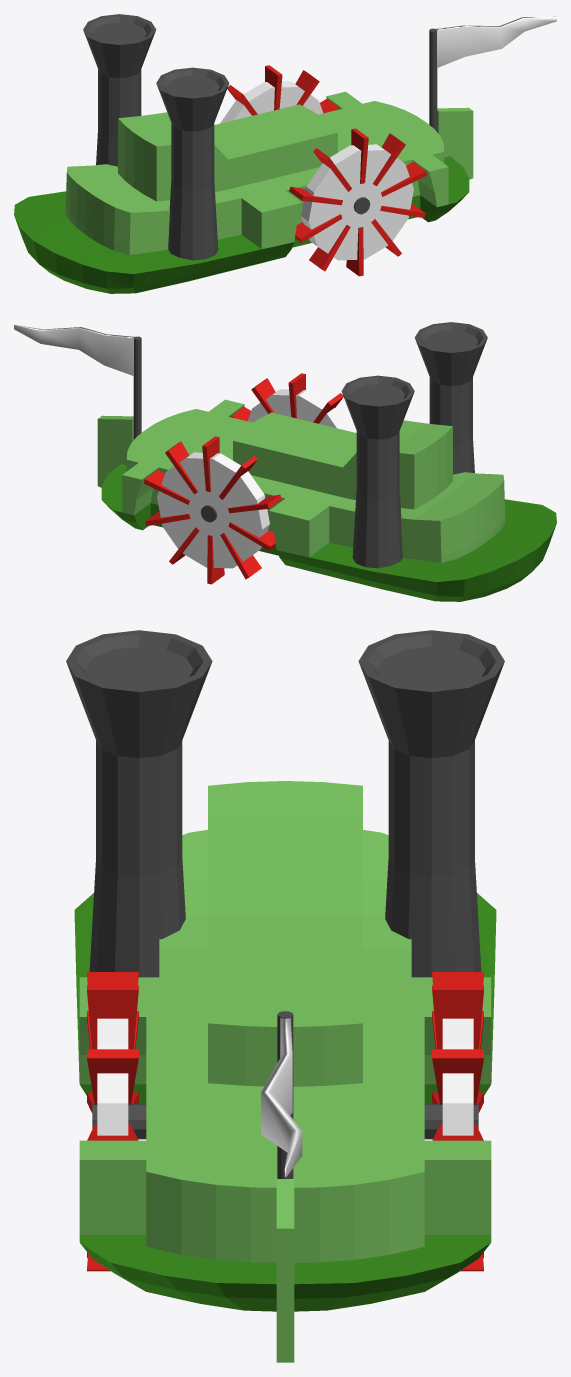
The model's file is Boat_1.FBX.
3 views of the same model, one above another, from view 1: azimuth 30°, elevation 25°; view 2: azimuth 150°, elevation 25°; view 3: azimuth 270°, elevation 25° (orthographic). The views are drawn at different scales.
Visible parts, largest first — view 1: B_1_Hull, B_1_left_Wheel, B_1_Left_Stack, B_1_right_Stack, B_1_right_Wheel, B_1_Flag, B_1_Rutter; view 2: B_1_Hull, B_1_right_Wheel, B_1_right_Stack, B_1_Left_Stack, B_1_left_Wheel, B_1_Flag, B_1_Rutter; view 3: B_1_Hull, B_1_Left_Stack, B_1_right_Stack, B_1_left_Wheel, B_1_right_Wheel, B_1_Rutter, B_1_Flag.
Boxes of the visible parts, x1,y1,x2,y2 form: B_1_Hull: (14,28,469,293); B_1_left_Wheel: (289,128,427,276); B_1_Left_Stack: (156,67,229,260); B_1_right_Stack: (83,14,156,166); B_1_right_Wheel: (220,65,339,123); B_1_Flag: (436,16,556,67); B_1_Rutter: (437,107,473,179); B_1_Hull: (101,336,556,601); B_1_right_Wheel: (143,436,281,584); B_1_right_Stack: (341,375,414,568); B_1_Left_Stack: (414,322,487,474); B_1_left_Wheel: (231,373,350,431); B_1_Flag: (14,325,134,375); B_1_Rutter: (97,415,133,487); B_1_Hull: (74,781,496,1311); B_1_Left_Stack: (66,630,212,977); B_1_right_Stack: (358,630,504,977); B_1_left_Wheel: (87,972,146,1271); B_1_right_Wheel: (424,972,483,1271); B_1_Rutter: (276,1179,294,1362); B_1_Flag: (261,1017,302,1177).
Size of the model in its own units: 130 by 47.23 by 52.57.
Materials: 1 (1 with a texture image).
